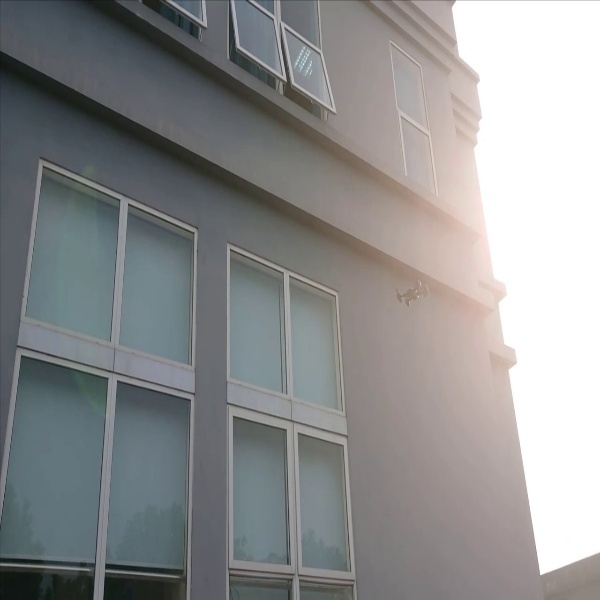drone: (390, 274, 436, 311)
